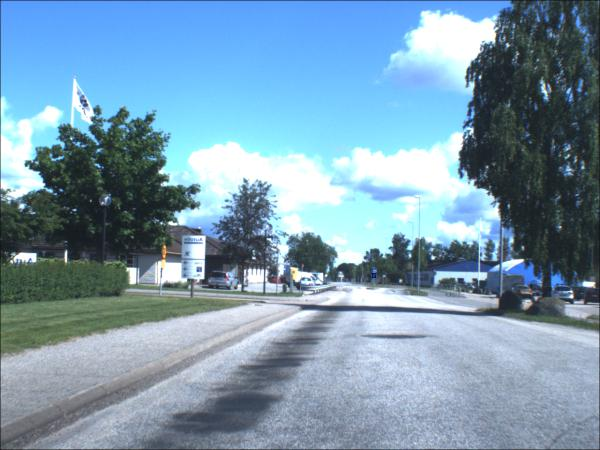30_SIGN: (161, 246, 167, 260)
PASS_RIGHT_SIDE: (372, 274, 377, 280)
PEDESTRIAN_CROSSING: (372, 269, 377, 274)
